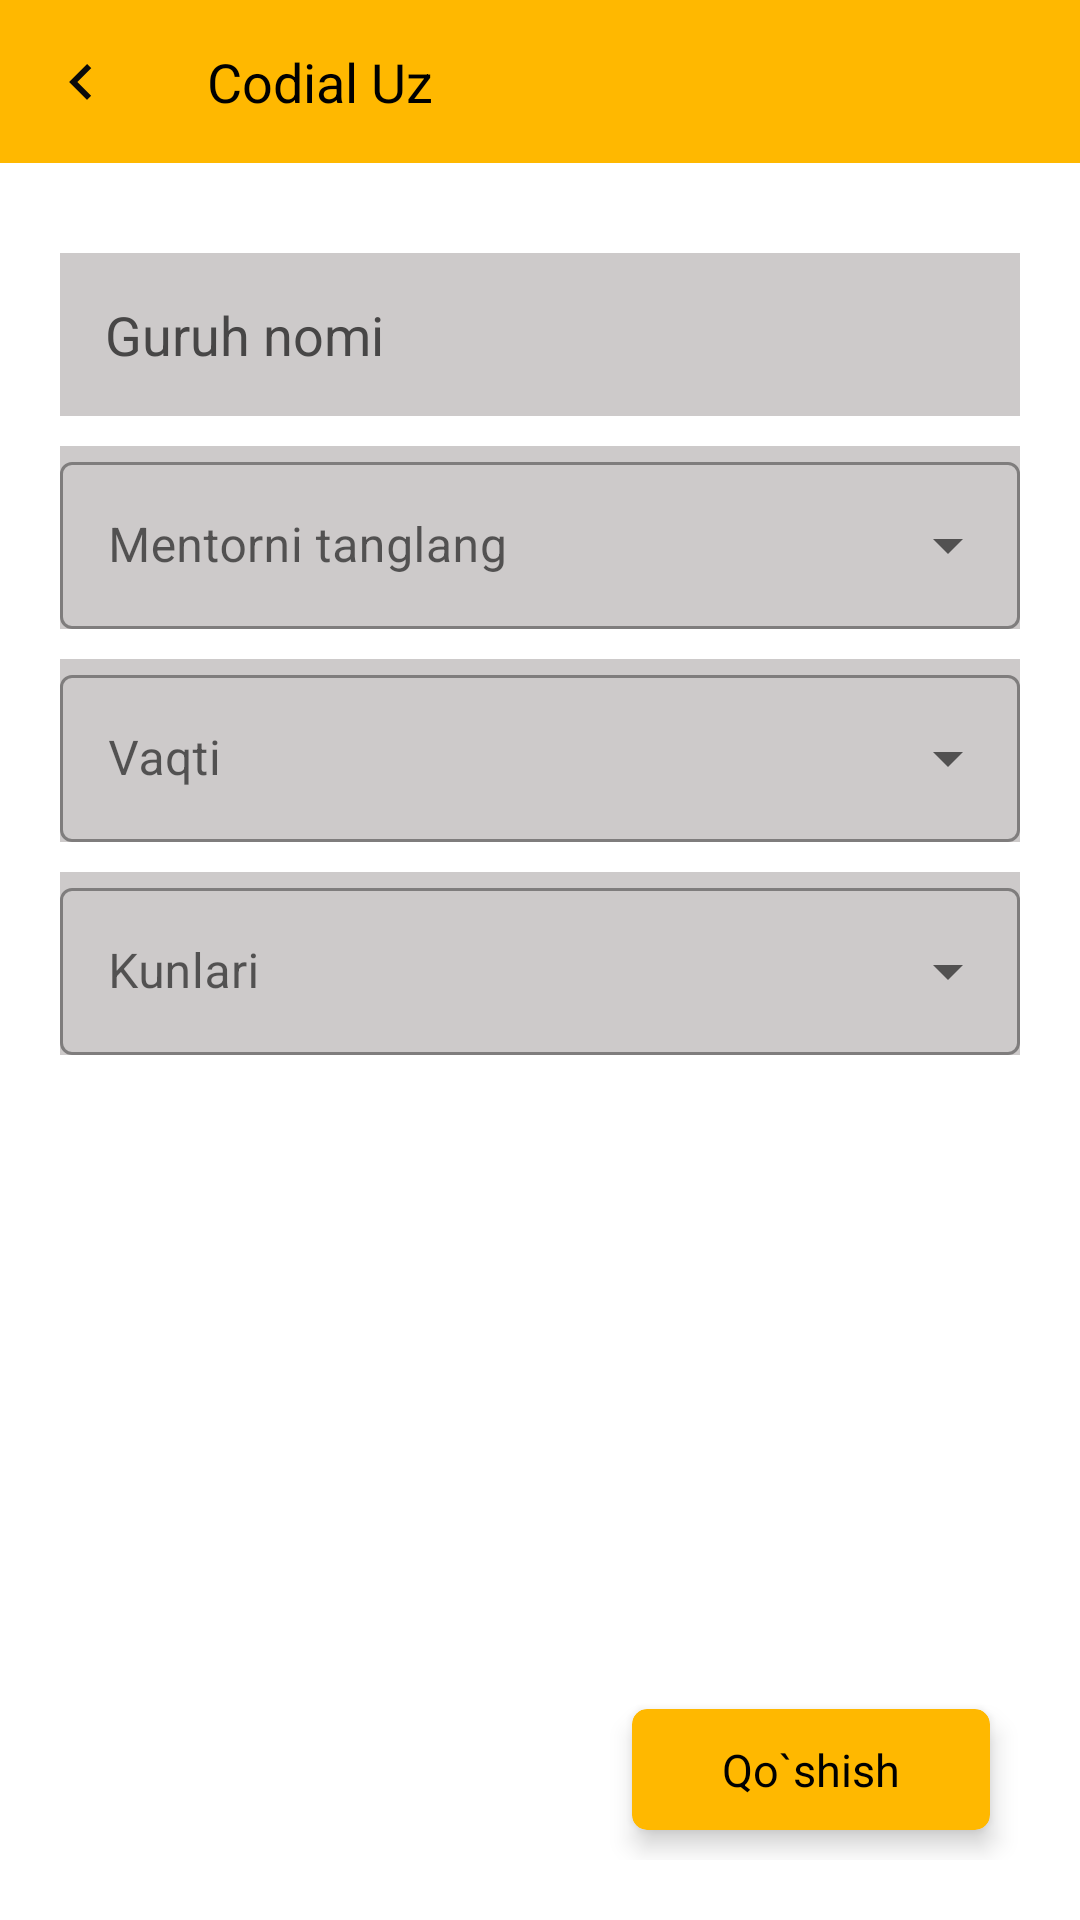

Icon bounding boxes for this 1080px×1920px phone screenshot, format (x1, y1, x2, y2):
keyboard arrow left: (69, 64, 91, 100)
